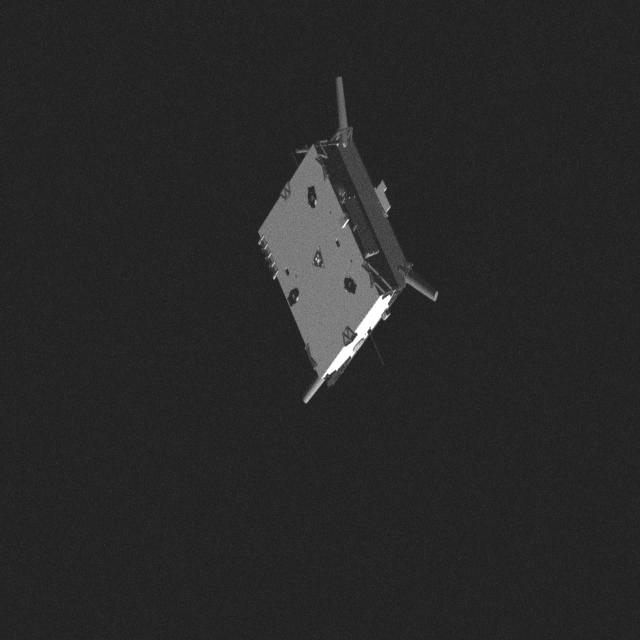medium_debris: (254, 80, 446, 410)
